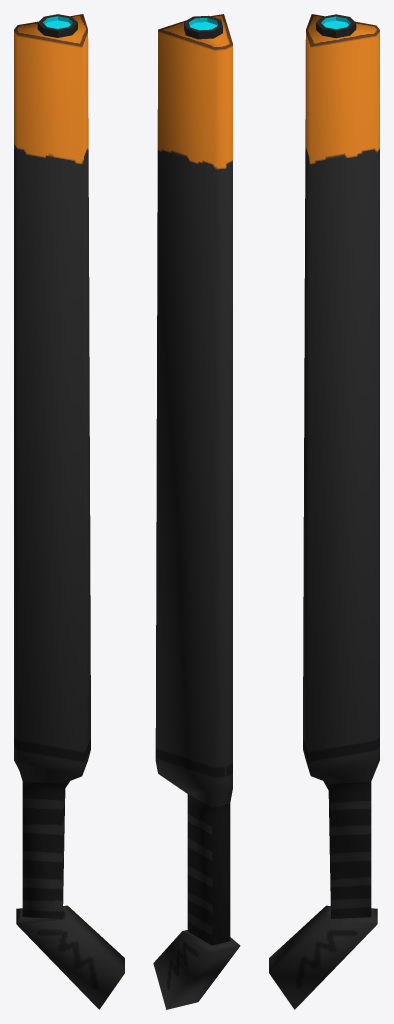
Rendered from RiotBaton.fbx.
3 views of the same model, side by side, from view 1: azimuth 90°, elevation 25°; view 2: azimuth 210°, elevation 25°; view 3: azimuth 270°, elevation 25° (orthographic).
Visible parts, largest first — view 1: Cube; view 2: Cube; view 3: Cube.
Part boxes in pixels (x1,y1,x2,y2): Cube: [14, 14, 124, 1009]; Cube: [153, 14, 240, 1009]; Cube: [269, 14, 379, 1009].
Bounding box in the file's own units: 0.0408 × 0.5757 × 0.059.
